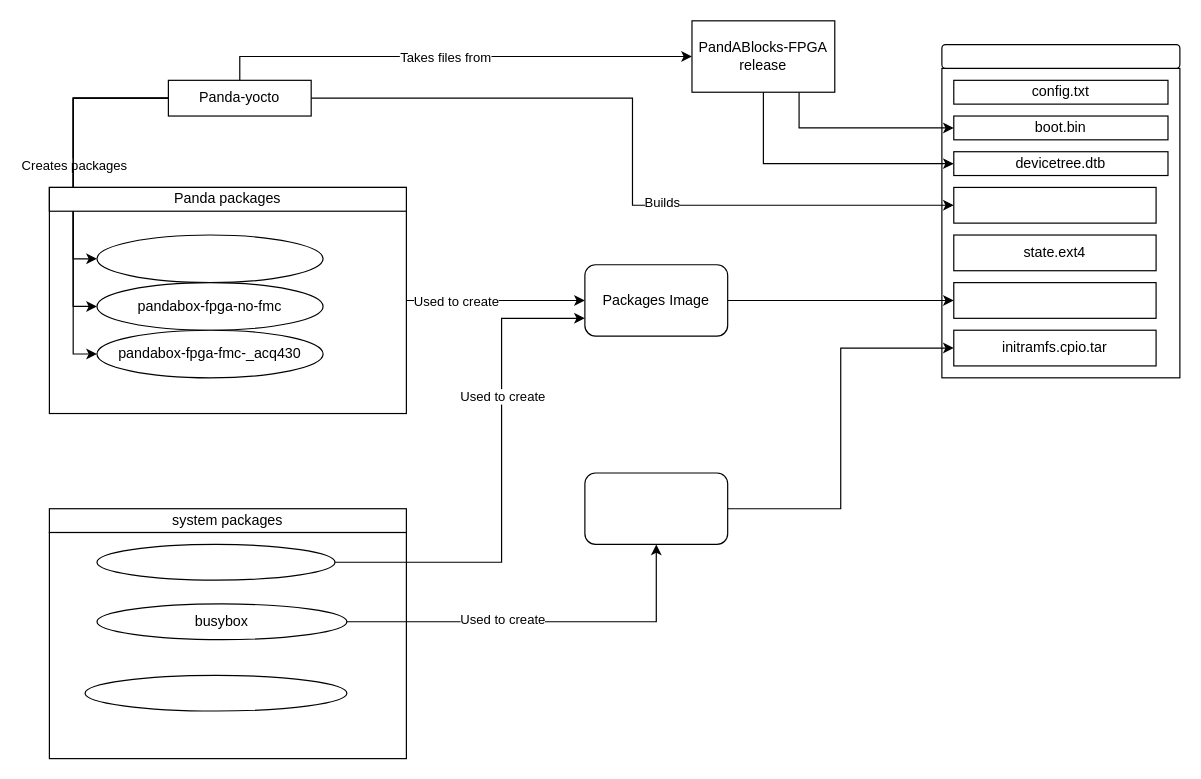
The diagram is 1201 pixels wide and 779 high, and some of its shapes have lost their labels. The centre of each missing label's shape, as x and y in pixels:
.... many many more: the point at 215,692
glibc: the point at 215,561
initramfs image: the point at 656,508
packages.ext4: the point at 1054,299
panda-server package: the point at 209,258
sdcard fat32 partition: the point at 1060,55
uImage: the point at 1054,204
